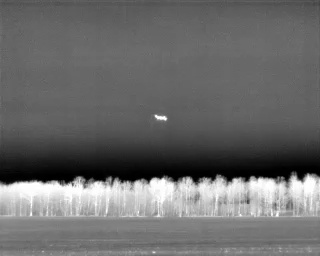DRONE: (150, 109, 171, 126)
